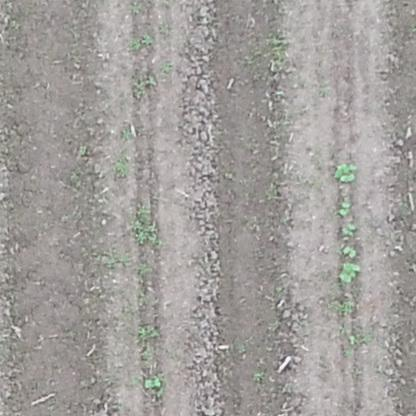vc: (336, 258, 361, 281), (334, 161, 358, 181), (142, 373, 164, 390), (335, 197, 350, 216), (342, 223, 357, 237), (342, 245, 358, 255)
